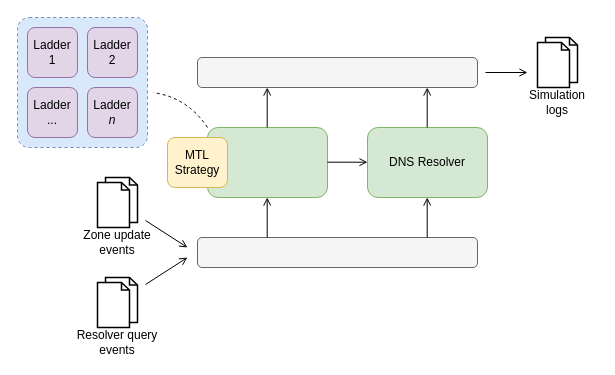
This 615x375 diagram has some shape labels left out. Here are the shapes that lost their labels. From the top down, the box of each, then its label:
(196, 56, 478, 88): Logging Sink
(206, 126, 328, 198): DNS Zone
(196, 236, 478, 268): Event Loop
